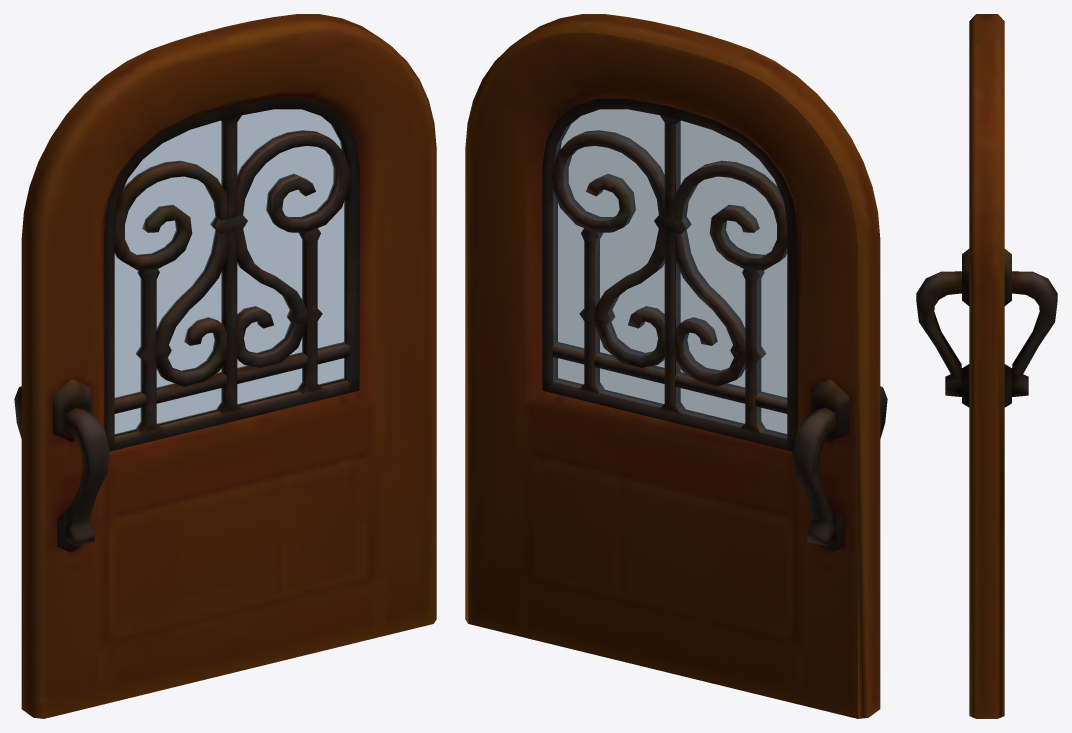
File: door-iron-grill-r.glb
The picture shows the model from 3 angles, left to right: view 1: azimuth 30°, elevation 25°; view 2: azimuth 150°, elevation 25°; view 3: azimuth 270°, elevation 25°; orthographic projection. The views are drawn at different scales.
Bounding box in the file's own units: 12 × 18 × 3.97.
2 materials, 1 textured.
